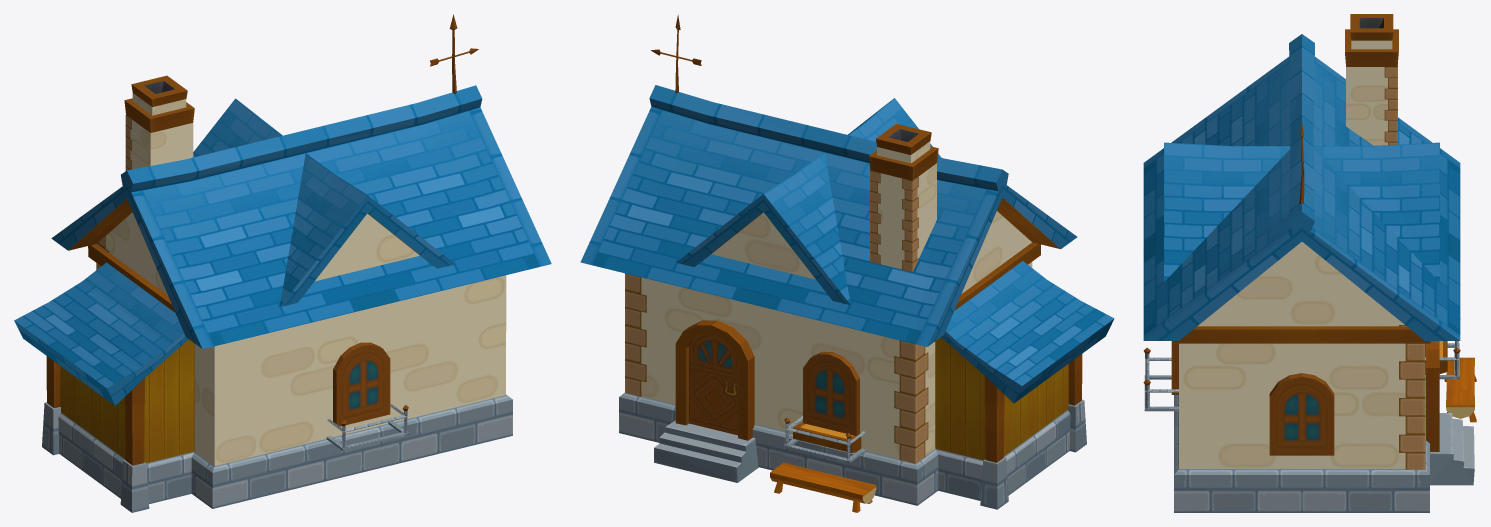
Rendered from HOS0110005.FBX.
3 views of the same model, side by side, from view 1: azimuth 30°, elevation 25°; view 2: azimuth 150°, elevation 25°; view 3: azimuth 270°, elevation 25° (orthographic). The views are drawn at different scales.
Visible parts, largest first — view 1: smHOS0110005; view 2: smHOS0110005; view 3: smHOS0110005.
Boxes of the visible parts, x1,y1,x2,y2 form: smHOS0110005: [14, 14, 551, 512]; smHOS0110005: [580, 14, 1114, 512]; smHOS0110005: [1143, 14, 1476, 512].
Bounding box in the file's own units: 1025 × 881 × 674.
